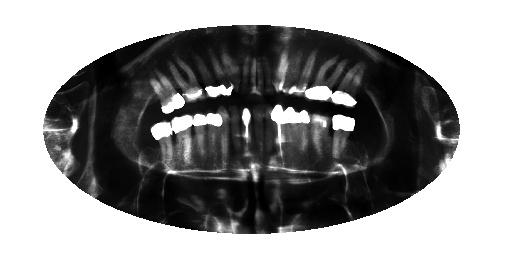i10decay: (227, 101, 243, 152)
i11healthy: (215, 102, 232, 168)
i12healthy: (206, 109, 222, 162)
i13healthy: (190, 111, 208, 161)
i14healthy: (169, 113, 194, 165)
i15healthy: (146, 119, 178, 167)
i2healthy: (329, 110, 358, 166)
i3healthy: (309, 107, 331, 162)
i4healthy: (297, 106, 310, 158)
i5loss: (284, 101, 297, 157)
i6healthy: (268, 100, 288, 160)
i7decay: (263, 103, 274, 152)
i8decay: (250, 104, 265, 156)
i9loss: (239, 103, 252, 157)
u10decay: (240, 53, 251, 98)
u11decay: (220, 41, 244, 93)
u12decay: (206, 43, 236, 98)
u13decay: (190, 45, 225, 99)
u14healthy: (163, 51, 207, 106)
u15healthy: (142, 66, 187, 116)
u2healthy: (329, 53, 370, 112)
u3healthy: (304, 52, 352, 102)
u4healthy: (293, 47, 322, 96)
u5decay: (281, 46, 309, 95)
u6healthy: (269, 42, 294, 96)
u7loss: (261, 45, 276, 97)
u8decay: (255, 55, 263, 98)
u9decay: (248, 57, 257, 97)
